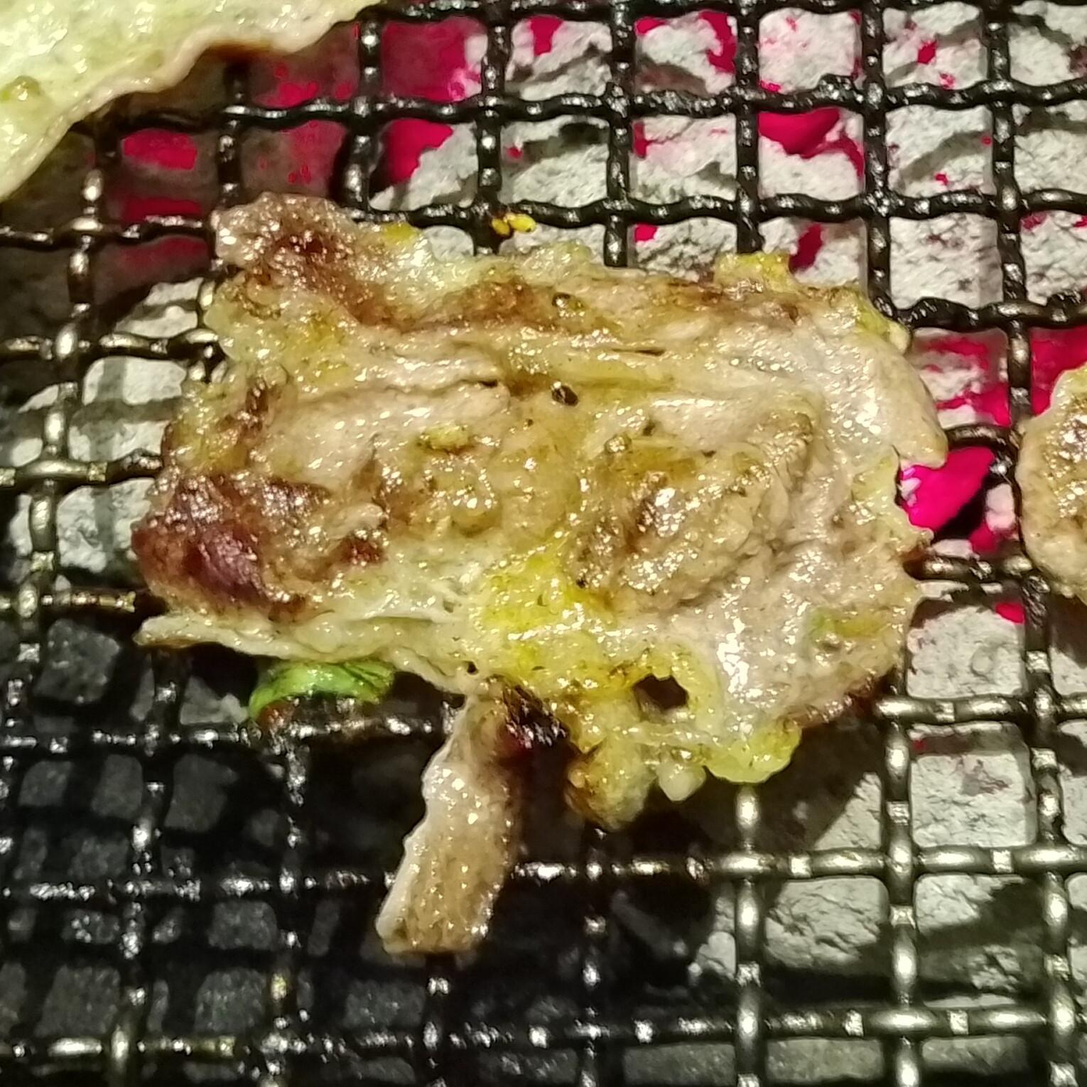Well-Cooked: (130, 195, 948, 955), (0, 0, 372, 201)
